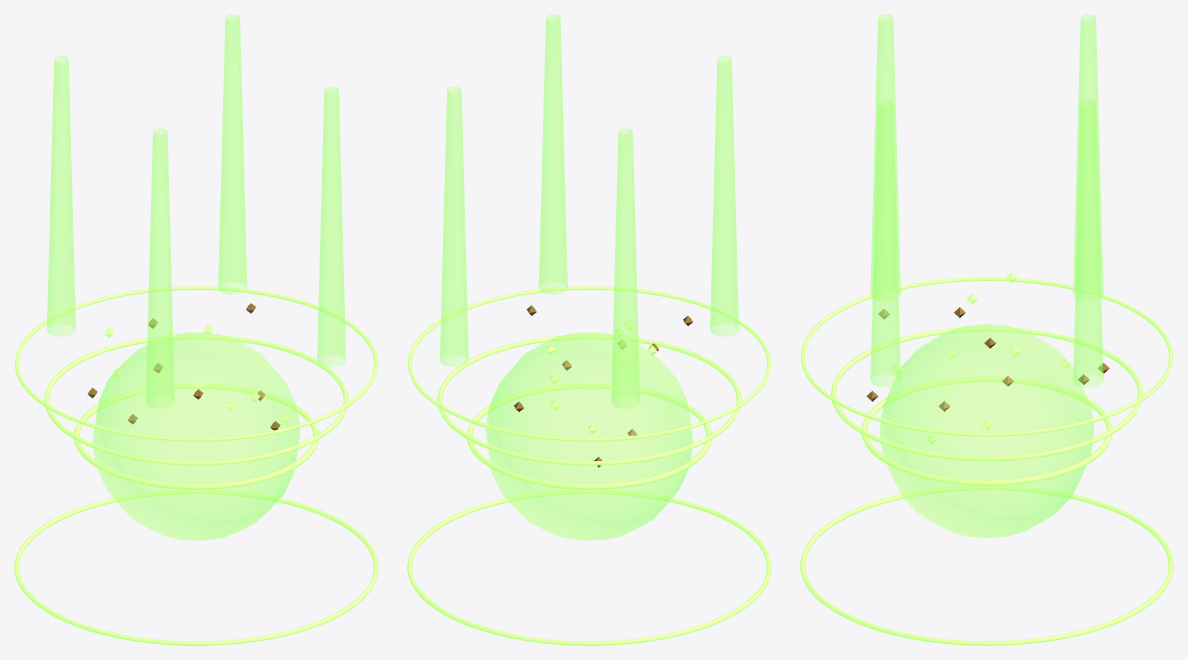
File: vfx_wave_clear.glb
3 views of the same model, side by side, from view 1: azimuth 30°, elevation 25°; view 2: azimuth 150°, elevation 25°; view 3: azimuth 270°, elevation 25° (orthographic). The views are drawn at different scales.
Parts seen in each view (by area): view 1: wc_halo, wc_beam1, wc_beam3, wc_beam2, wc_beam0, wc_ground, wc_ring2, wc_ring1, wc_ring0; view 2: wc_halo, wc_beam0, wc_beam2, wc_beam1, wc_beam3, wc_ground, wc_ring2, wc_ring1, wc_ring0; view 3: wc_halo, wc_beam0, wc_beam3, wc_beam1, wc_beam2, wc_ground, wc_ring1, wc_ring2, wc_ring0.
Part boxes in pixels (x1,y1,x2,y2): wc_halo: (92, 332, 300, 540); wc_beam1: (145, 128, 174, 408); wc_beam3: (218, 14, 247, 294); wc_beam2: (46, 56, 75, 336); wc_beam0: (317, 86, 346, 366); wc_ground: (14, 490, 378, 645); wc_ring2: (14, 286, 378, 441); wc_ring1: (44, 335, 348, 465); wc_ring0: (74, 383, 318, 489); wc_halo: (485, 332, 693, 540); wc_beam0: (538, 14, 567, 294); wc_beam2: (611, 128, 640, 408); wc_beam1: (710, 56, 739, 336); wc_beam3: (439, 86, 468, 366); wc_ground: (407, 490, 771, 645); wc_ring2: (407, 286, 771, 441); wc_ring1: (437, 335, 741, 465); wc_ring0: (467, 383, 711, 489); wc_halo: (879, 324, 1094, 538); wc_beam0: (870, 100, 900, 386); wc_beam3: (1073, 100, 1103, 386); wc_beam1: (870, 14, 900, 297); wc_beam2: (1073, 14, 1103, 297); wc_ground: (800, 486, 1173, 645); wc_ring1: (831, 327, 1142, 461); wc_ring2: (800, 277, 1173, 436); wc_ring0: (861, 376, 1112, 485).
Bounding box in the file's own units: 7.3 × 10.95 × 7.3.
